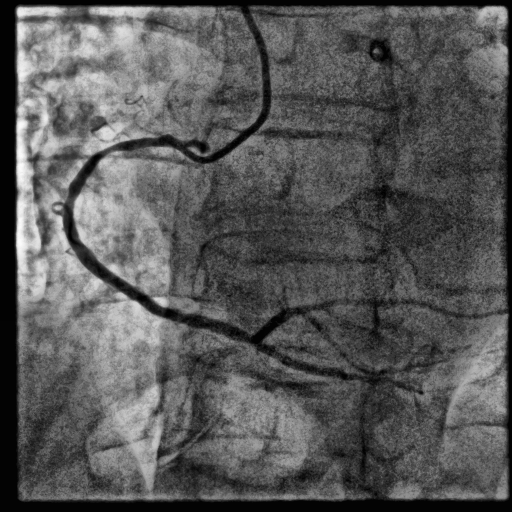pborca: (254, 298, 510, 341)
pda: (250, 342, 424, 395)
rca: (63, 135, 261, 344)
